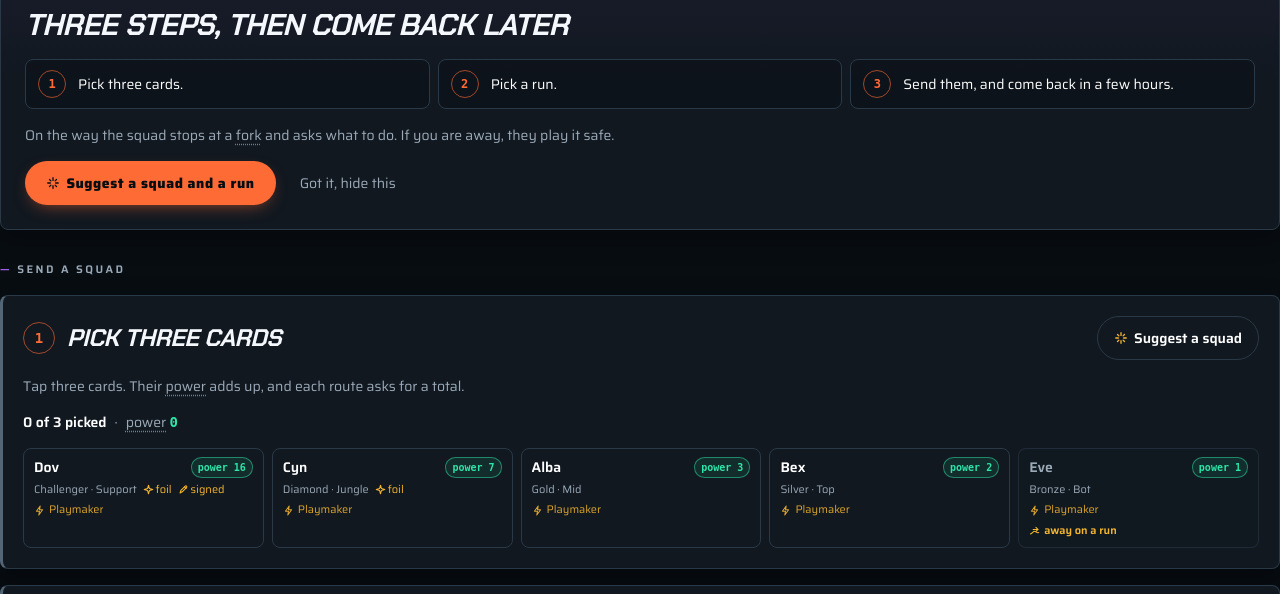
Scenario: ExpeditionBoard — tier cards › surfaces a refused launch and doesn't refresh
Click the button "Alba power 3 Gold · Mid Playmaker".
click(641, 498)  # box [521, 448, 761, 548]
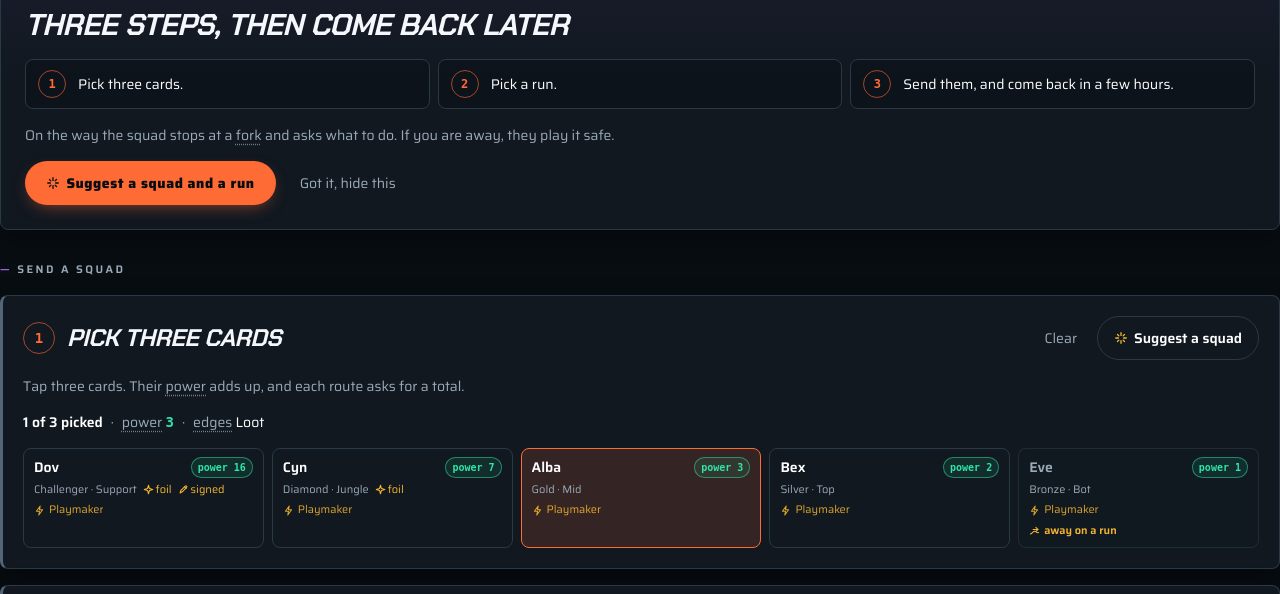
Click the button "Bex power 2 Silver · Top Playmaker".
click(890, 498)  # box [769, 448, 1010, 548]
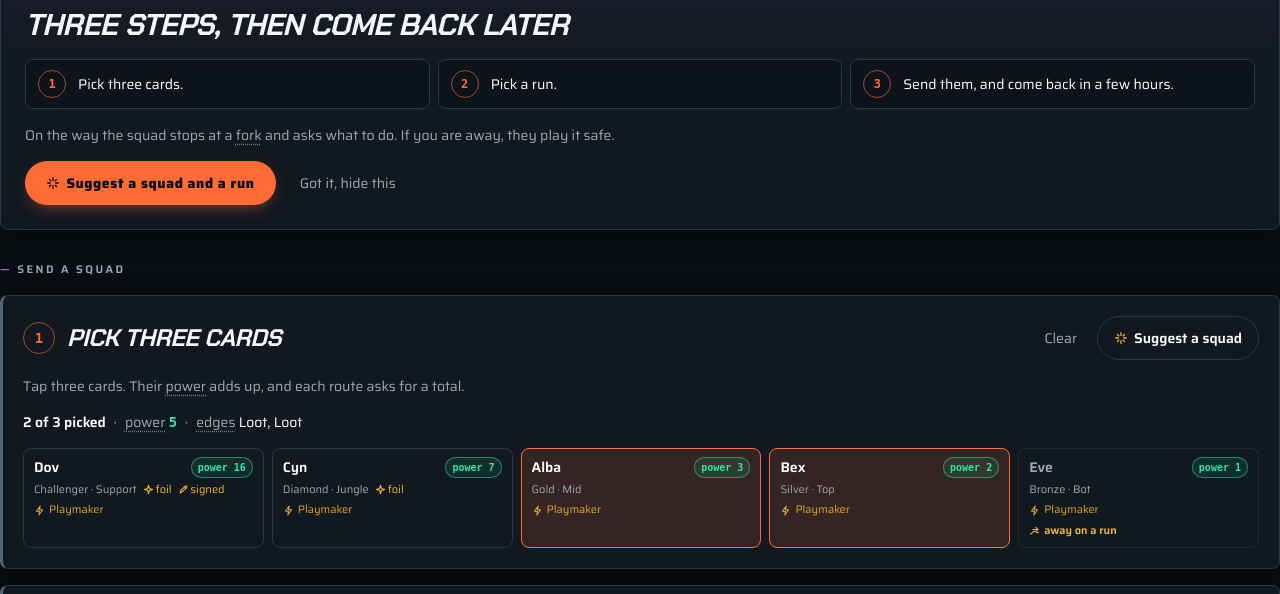
Click the button "Cyn power 7 Diamond · Jungle foil Playmaker".
click(392, 498)  # box [272, 448, 513, 548]
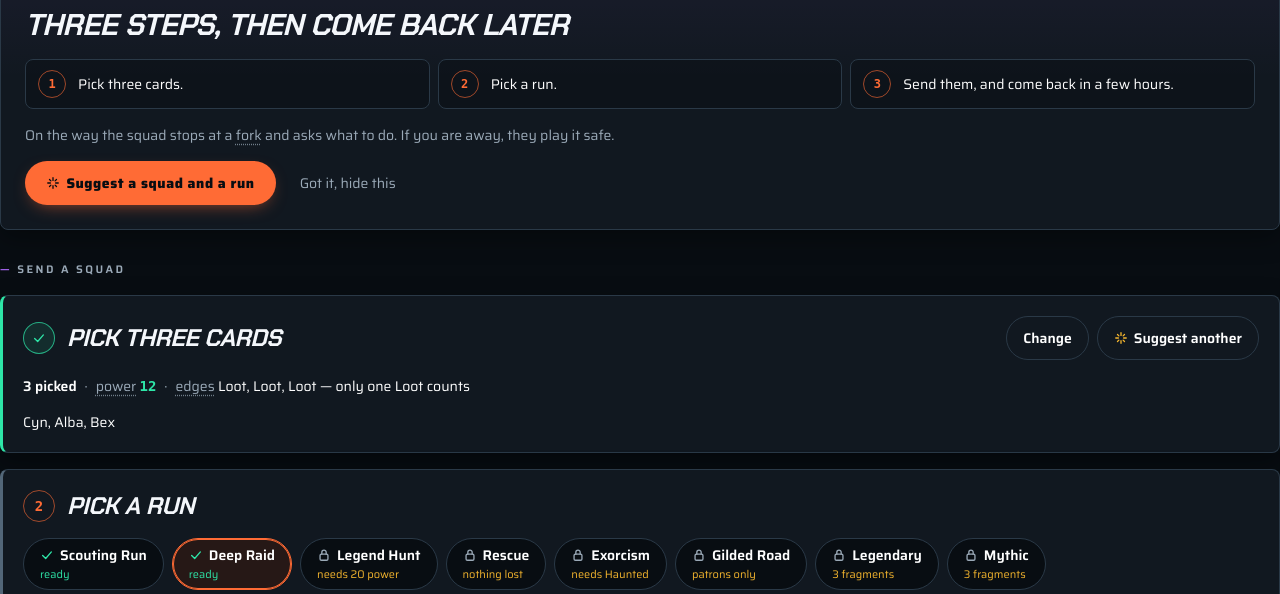
Click the button "Deep Raid ready".
click(232, 564)  # box [172, 538, 292, 590]
(page scrolled)
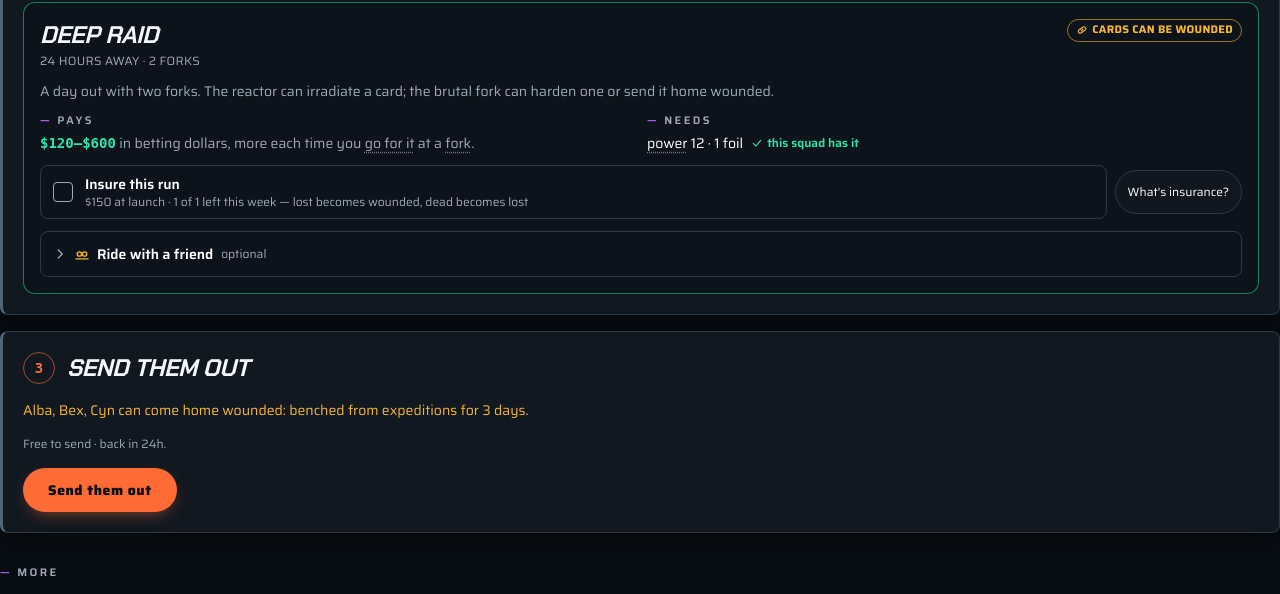
Click the button with aria-label "Launch Deep Raid".
click(100, 490)  # box [23, 468, 177, 512]
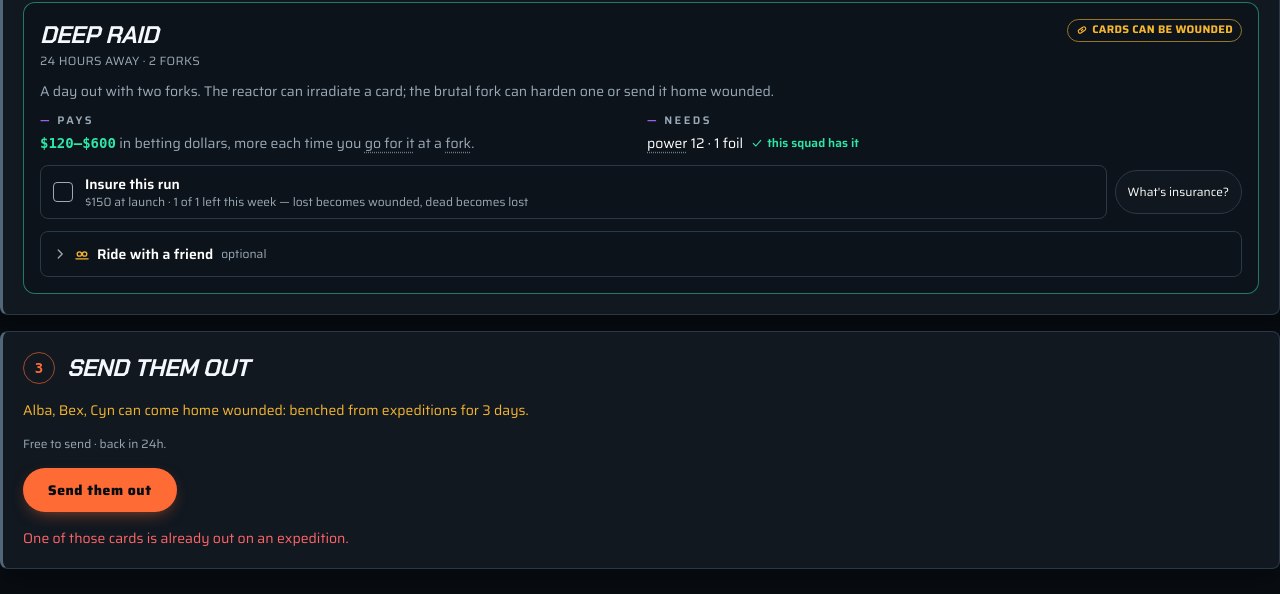
Expected: the text "One of those cards is already out on an expedition." is shown, [23, 527, 348, 549]
